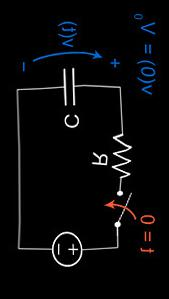Battery: (41, 219, 94, 274)
